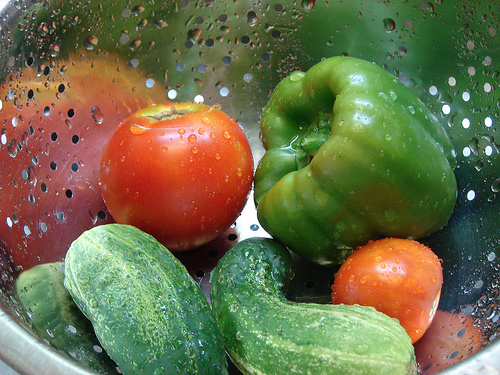capsicum: (254, 54, 461, 257)
